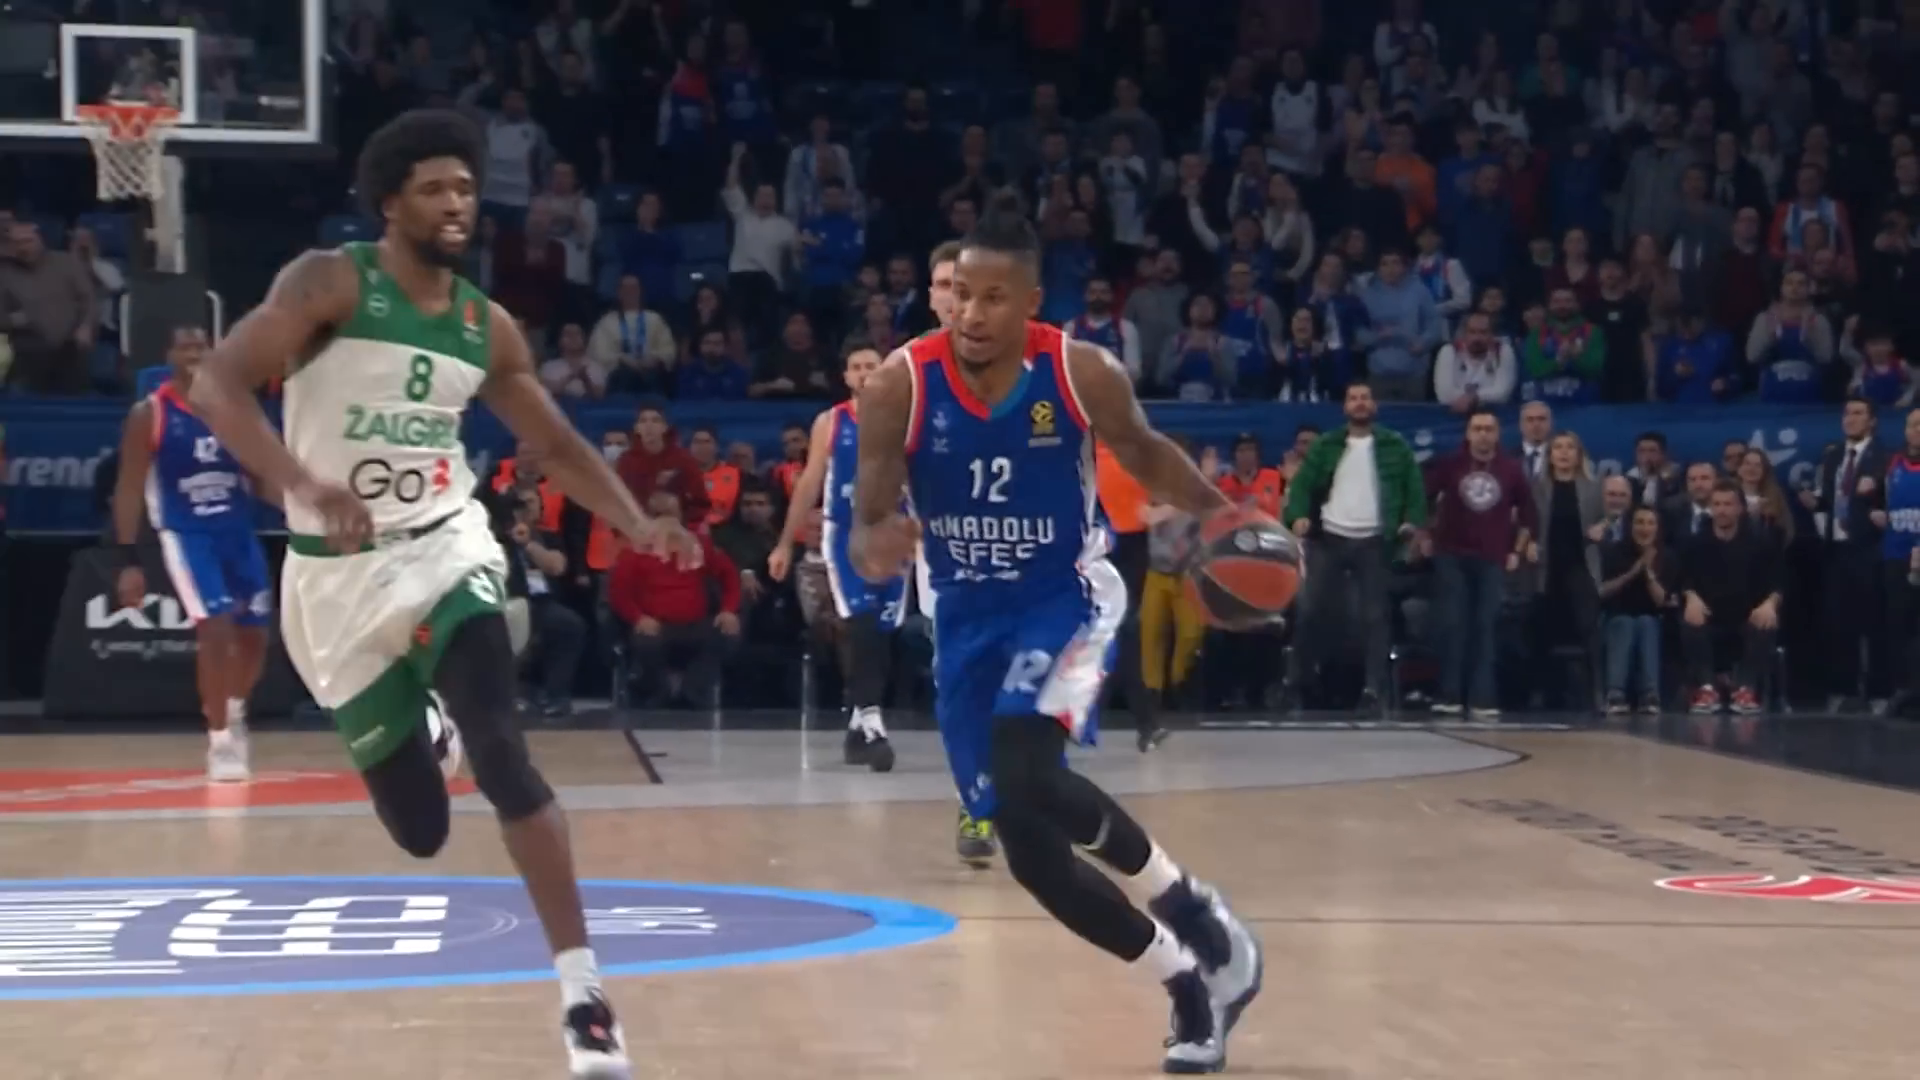ball: (1162, 498, 1317, 632)
net: (69, 96, 189, 207)
